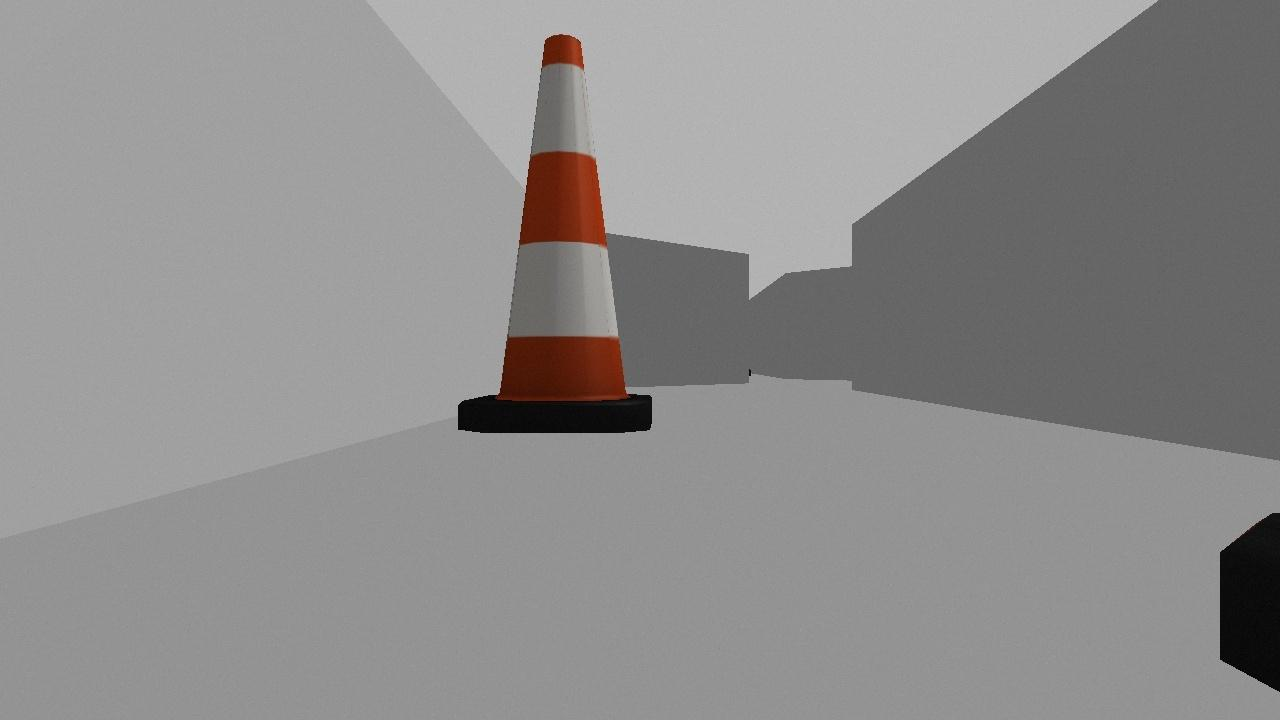cone_barrel: (439, 22, 665, 443)
